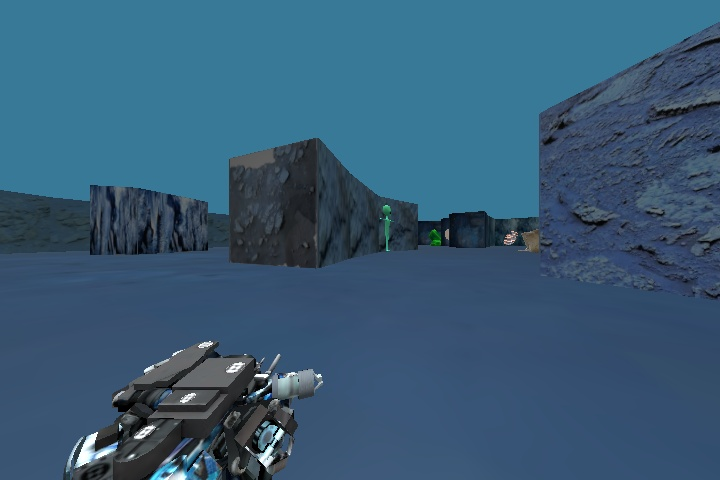formation: (518, 224, 542, 259)
green_alien: (372, 199, 400, 257)
green_crystal: (424, 225, 442, 246)
